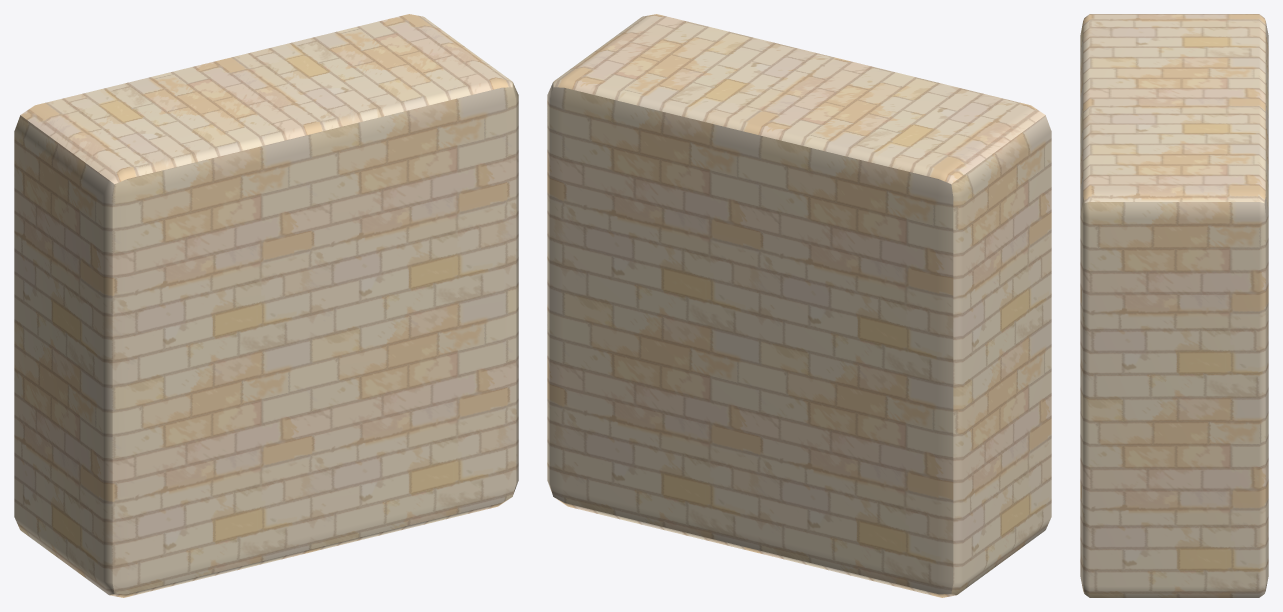
Rendered from B_rect_long.fbx.
3 renders of one model, left to right at view 1: azimuth 30°, elevation 25°; view 2: azimuth 150°, elevation 25°; view 3: azimuth 270°, elevation 25°, orthographic. The views are drawn at different scales.
Visible parts, largest first — view 1: pCube7; view 2: pCube7; view 3: pCube7.
Boxes of the visible parts, x1,y1,x2,y2 form: pCube7: [14, 14, 518, 597]; pCube7: [547, 14, 1051, 597]; pCube7: [1080, 14, 1268, 597].
Size of the model in its own units: 31.7 by 31.17 by 13.02.
